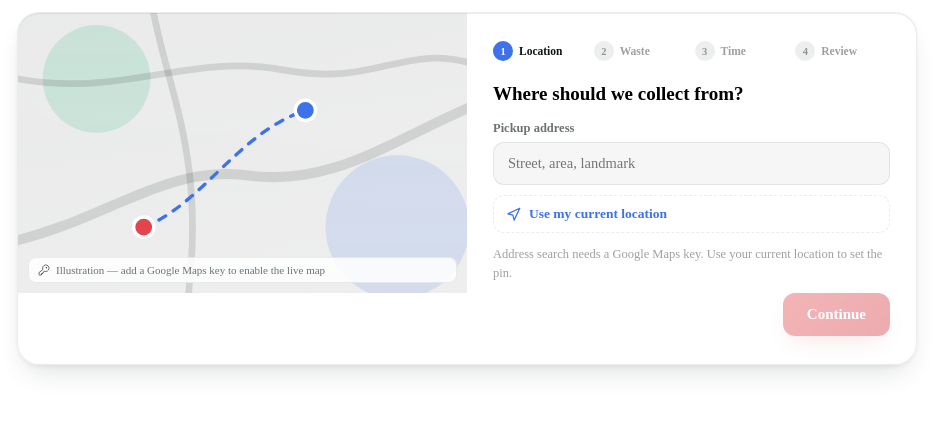
Test: BookingFlow › re-quotes and asks for re-confirmation when the server says the price changed
This screenshot has width=935, height=446.
Type "12 Test Street, Accra" into the field labelled "Pickup address".
click(692, 164); type("12 Test Street, Accra")  # box [493,142,890,185]
Click the button "Use my current location".
click(598, 214)  # box [493,195,890,233]
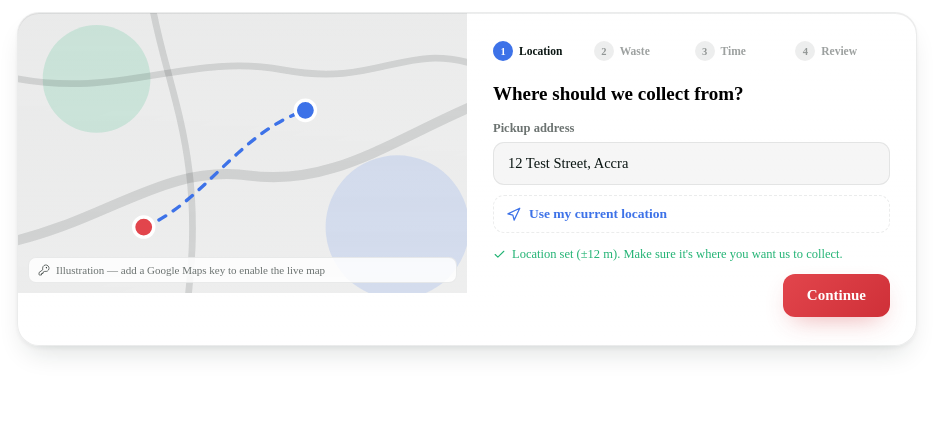
Now the text "Location set (±12 m). Make sure it's where you want us to collect." is shown, box [493,245,890,264]
Click the button "Continue".
click(836, 295)  # box [783,274,890,317]
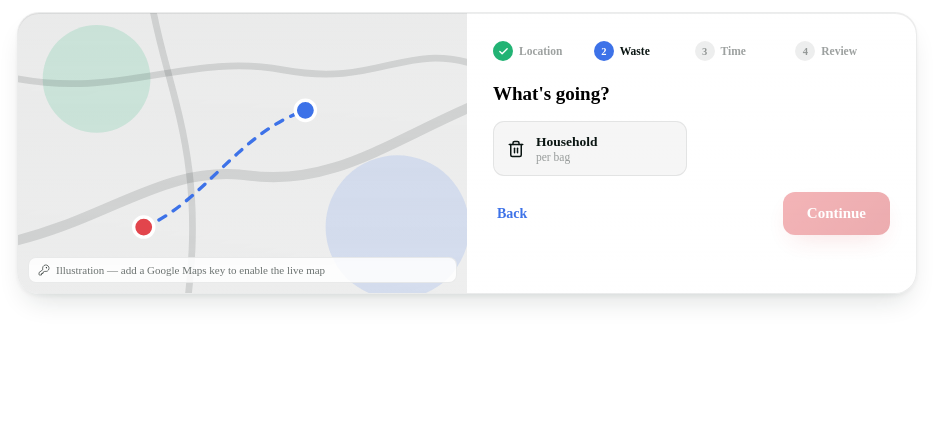
Click the button "Household per bag".
click(590, 148)  # box [493,121,686,176]
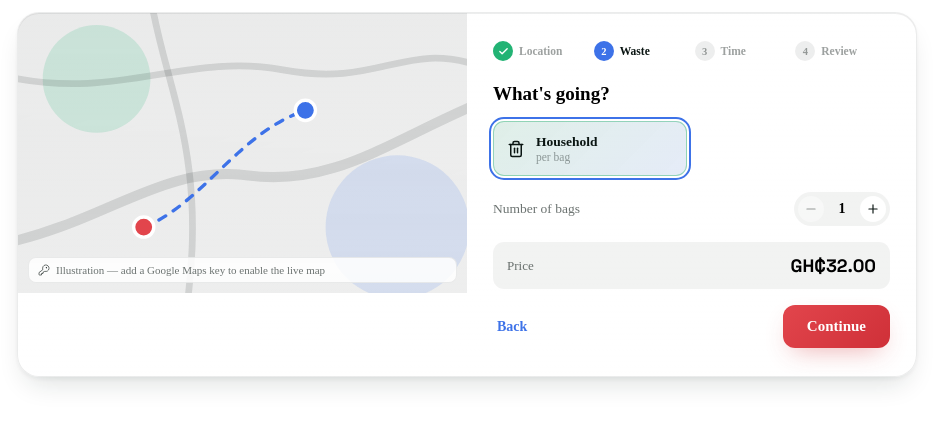
Now the text "GH₵32.00" is shown, box [791,254,876,277]
Click the button "Continue".
click(836, 326)  # box [783,305,890,348]
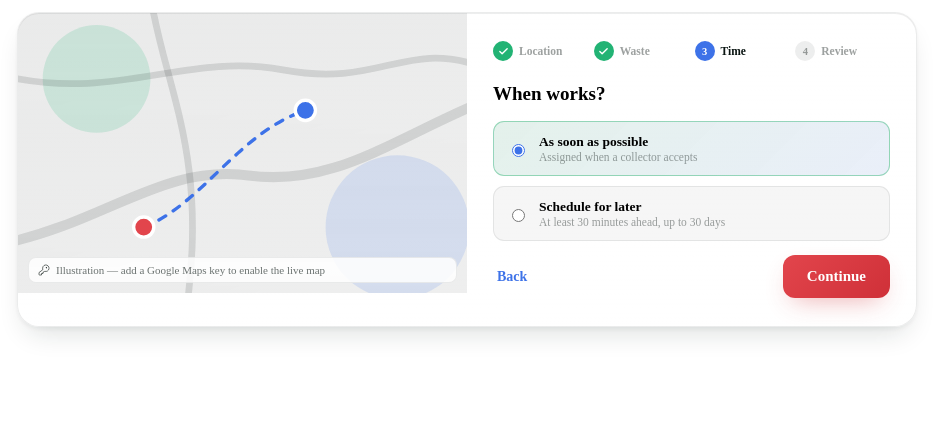
Click the button "Continue".
click(836, 276)  # box [783,255,890,298]
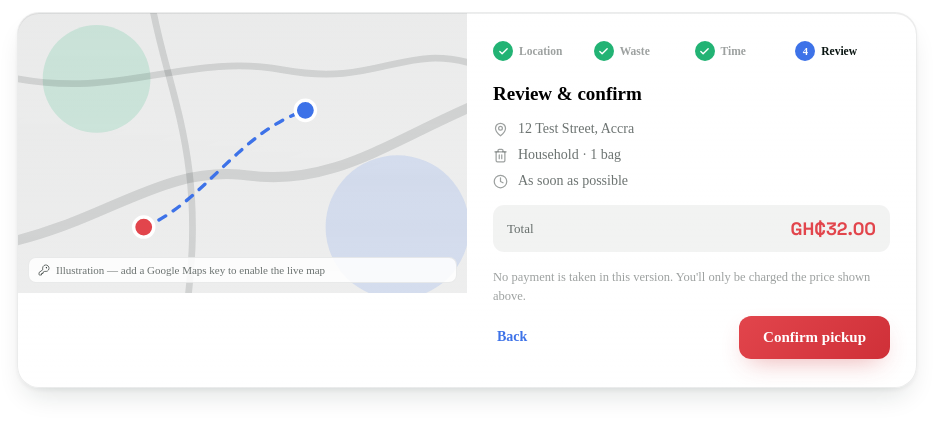
Click the button "Confirm pickup".
click(815, 337)  # box [739,316,890,358]
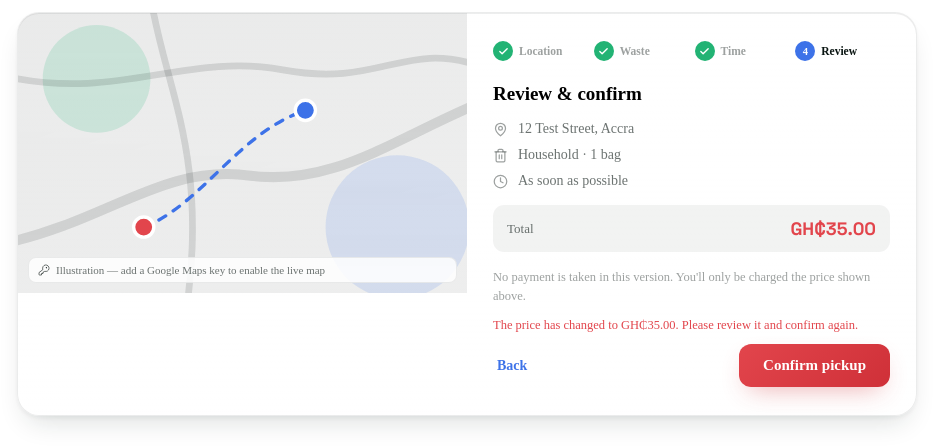
Now the message reads "The price has changed to GH₵35.00. Please review it and confirm again.", box [493,318,858,332]
